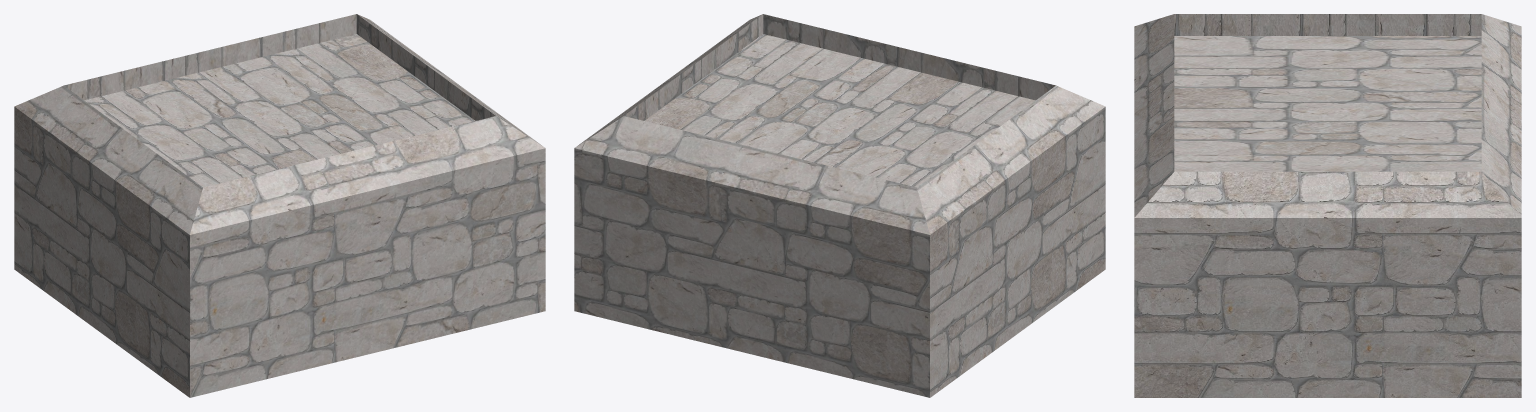
Rendered from square_barriers2.fbx.
The picture shows the model from 3 angles, left to right: view 1: azimuth 30°, elevation 25°; view 2: azimuth 150°, elevation 25°; view 3: azimuth 270°, elevation 25°; orthographic projection. The views are drawn at different scales.
Visible parts, largest first — view 1: Square_barriers; view 2: Square_barriers; view 3: Square_barriers.
Boxes of the visible parts, <box> form: Square_barriers: <box>14,14,545,397</box>; Square_barriers: <box>574,14,1105,397</box>; Square_barriers: <box>1134,14,1521,397</box>.
Bounding box in the file's own units: 5.5 × 4.7 × 2.8.
1 material, 1 textured.
